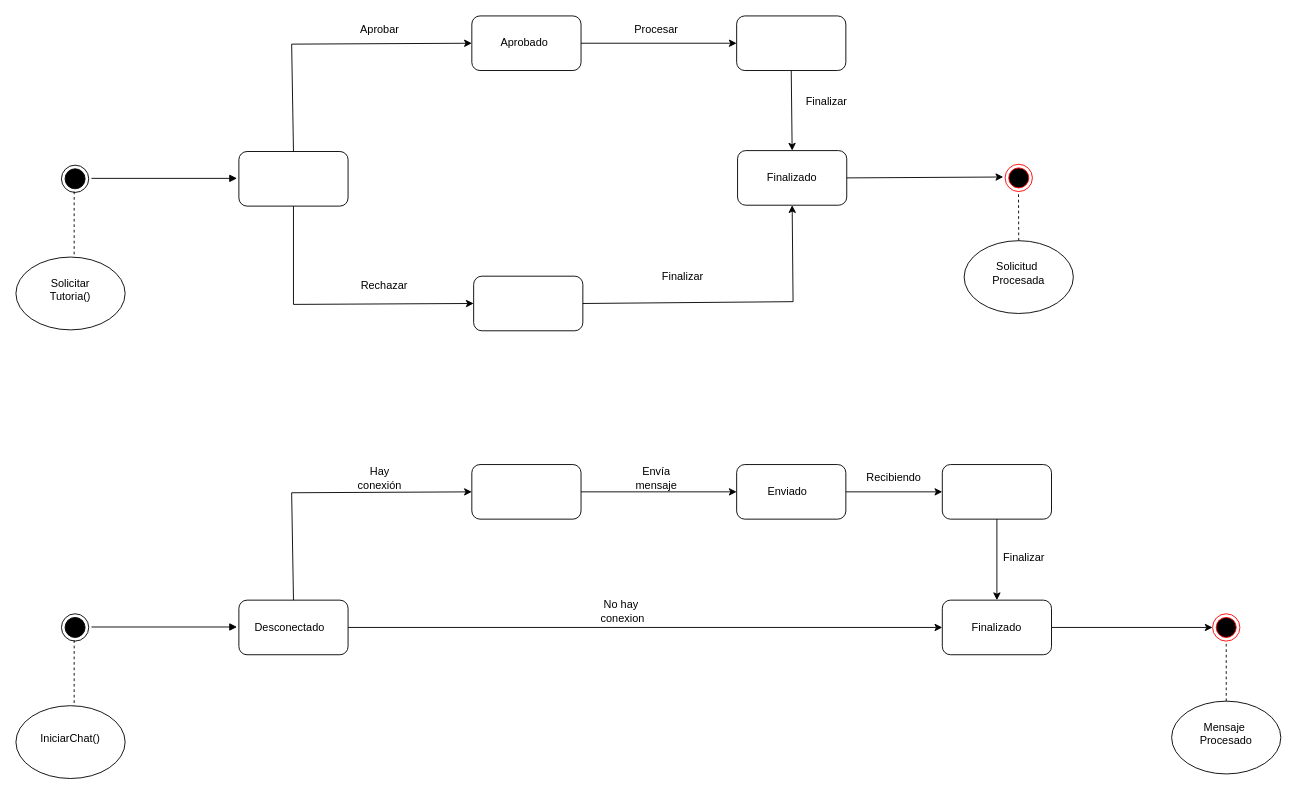
Image size: 1297x794. Some labels were removed from this diagram. Each missing label, with the centre of its shape:
"Conectado" belongs at point 526,491.
"Pendiente" belongs at point 293,178.
"Procesado" belongs at point 791,43.
"Rechazado" belongs at point 528,303.
"Recibido" belongs at point 996,491.
